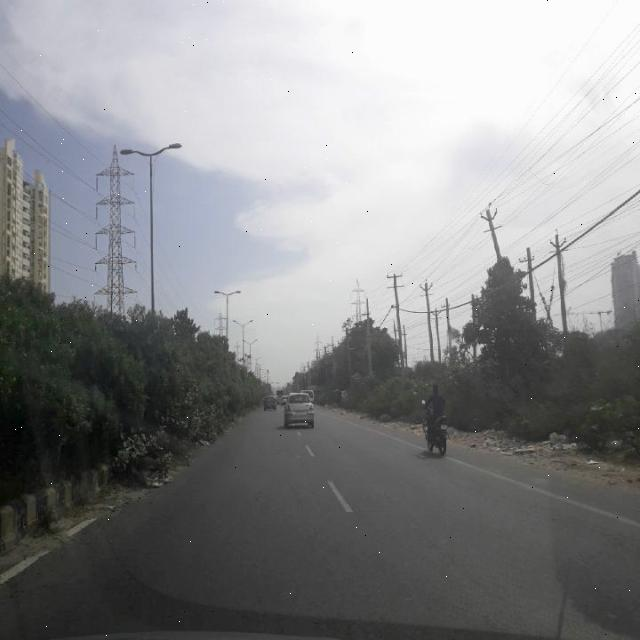D20: (38, 470, 639, 630)
